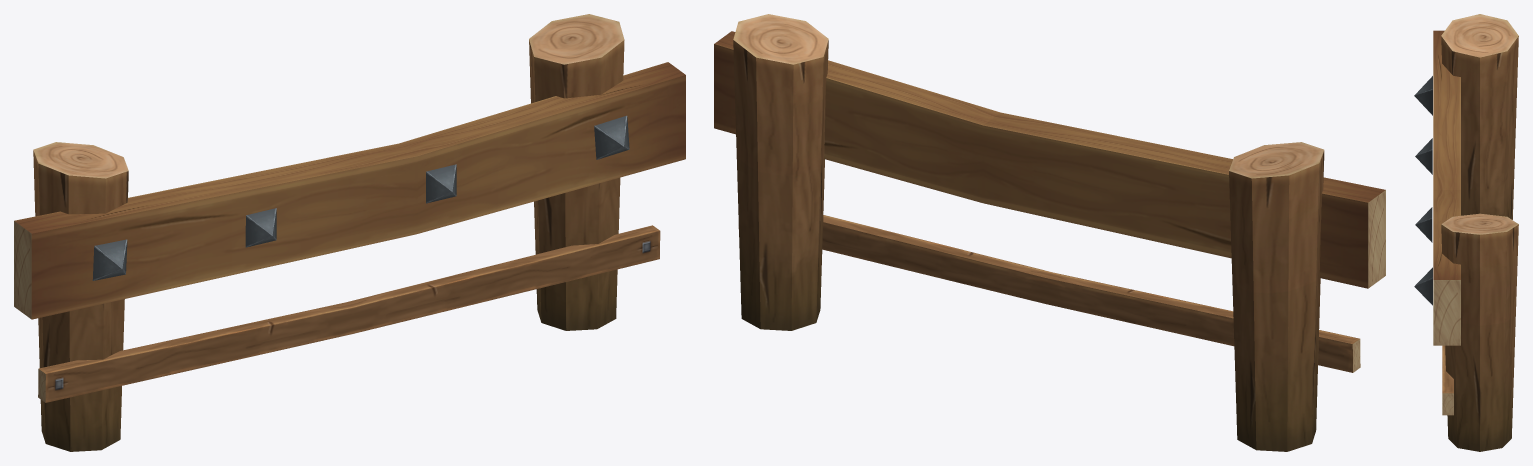
File: wooden_fence_18.fbx
3 renders of one model, left to right at view 1: azimuth 30°, elevation 25°; view 2: azimuth 150°, elevation 25°; view 3: azimuth 270°, elevation 25°, orthographic. The views are drawn at different scales.
Parts seen in each view (by area): view 1: wooden_fence_18:Mesh; view 2: wooden_fence_18:Mesh; view 3: wooden_fence_18:Mesh.
Part boxes in pixels (x1=…): wooden_fence_18:Mesh: x1=14, y1=14, x2=685, y2=451; wooden_fence_18:Mesh: x1=714, y1=14, x2=1385, y2=451; wooden_fence_18:Mesh: x1=1414, y1=14, x2=1518, y2=451.
Bounding box in the file's own units: 7.18 × 2.96 × 1.28.
